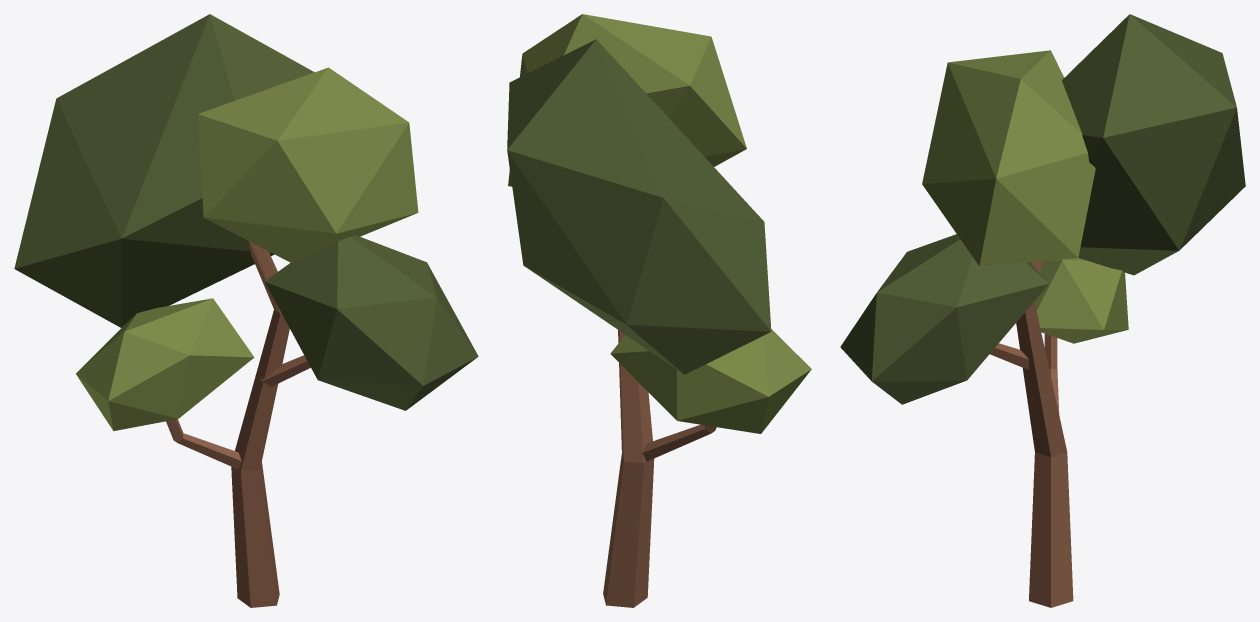
3 renders of one model, left to right at view 1: azimuth 30°, elevation 25°; view 2: azimuth 150°, elevation 25°; view 3: azimuth 270°, elevation 25°, orthographic. The views are drawn at different scales.
Visible parts, largest first — view 1: node-0; view 2: node-0; view 3: node-0.
Part boxes in pixels (x1=…): node-0: x1=14, y1=14, x2=478, y2=607; node-0: x1=507, y1=14, x2=811, y2=607; node-0: x1=840, y1=14, x2=1245, y2=607.
Size of the model in its own units: 1.11 by 1.84 by 1.17.
